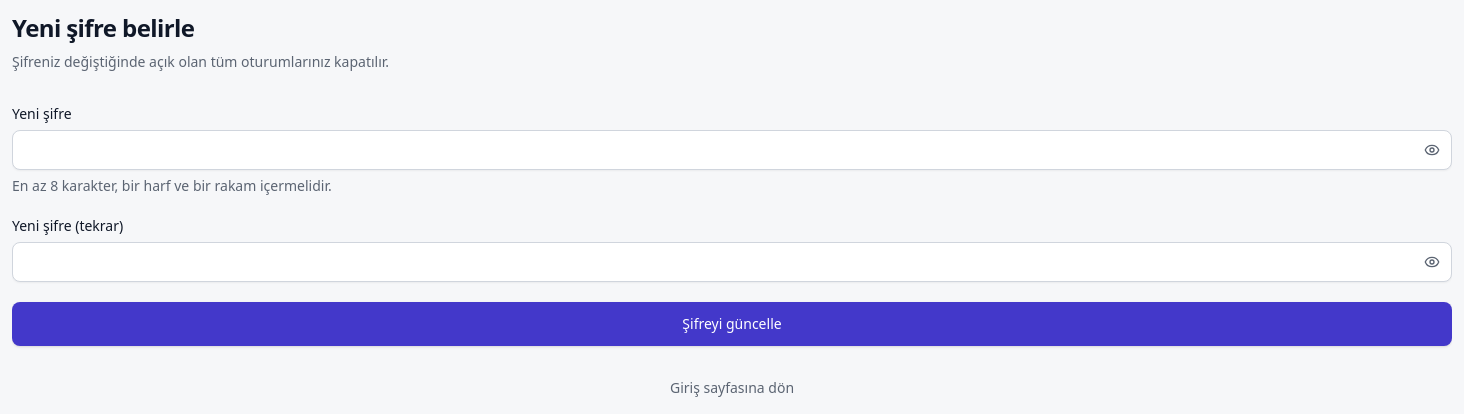
ResetPasswordForm › rejects a password that is too weak
Type "sadeceharf" into the password field labelled "Yeni şifre".
click(732, 150); type("sadeceharf")  # box x1=12 y1=130 x2=1452 y2=170
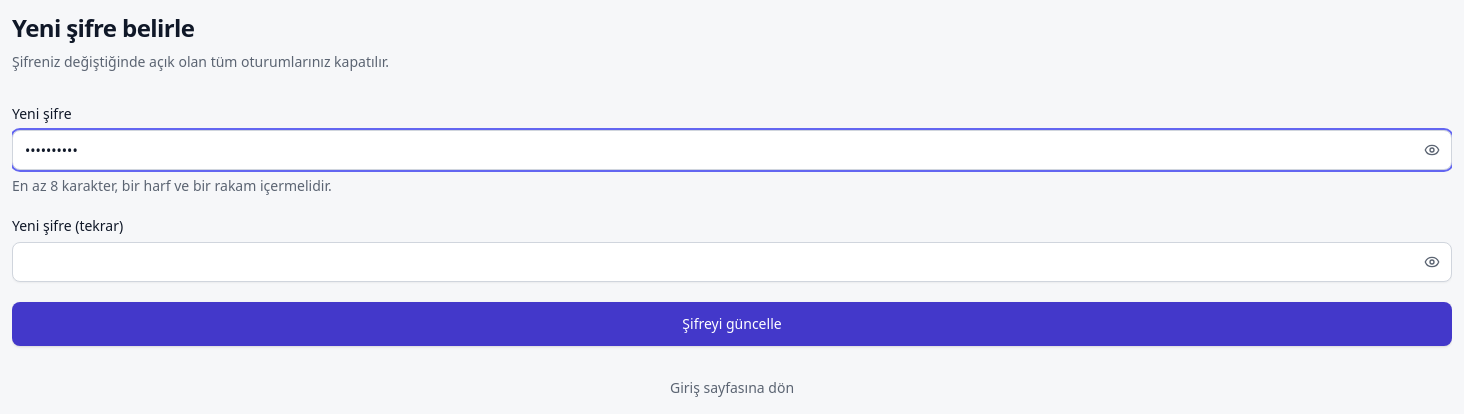
Type "sadeceharf" into the password field labelled "Yeni şifre (tekrar)".
click(732, 262); type("sadeceharf")  # box x1=12 y1=242 x2=1452 y2=282
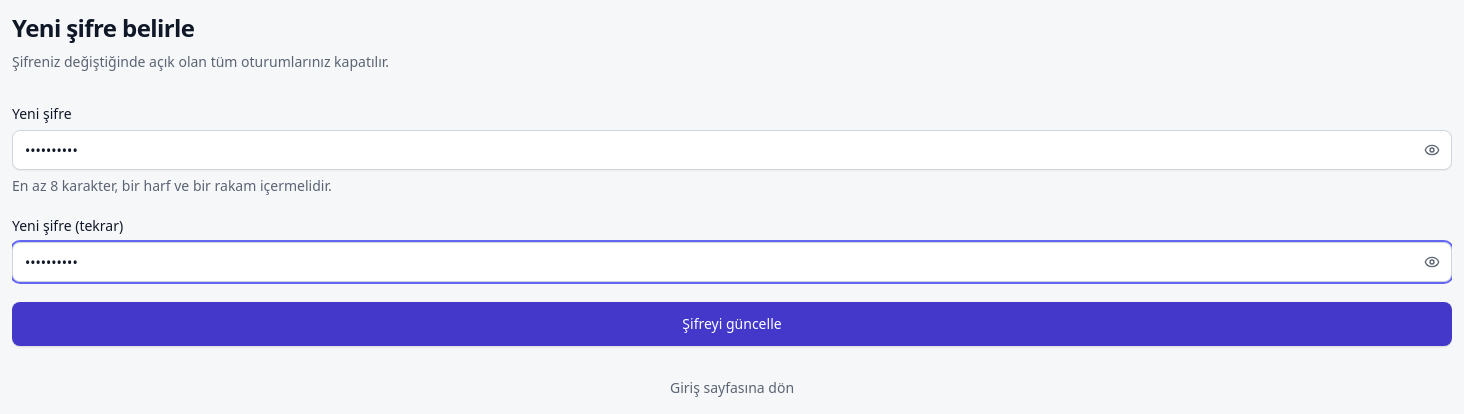
Click the button "Şifreyi güncelle".
click(732, 324)  # box x1=12 y1=302 x2=1452 y2=346
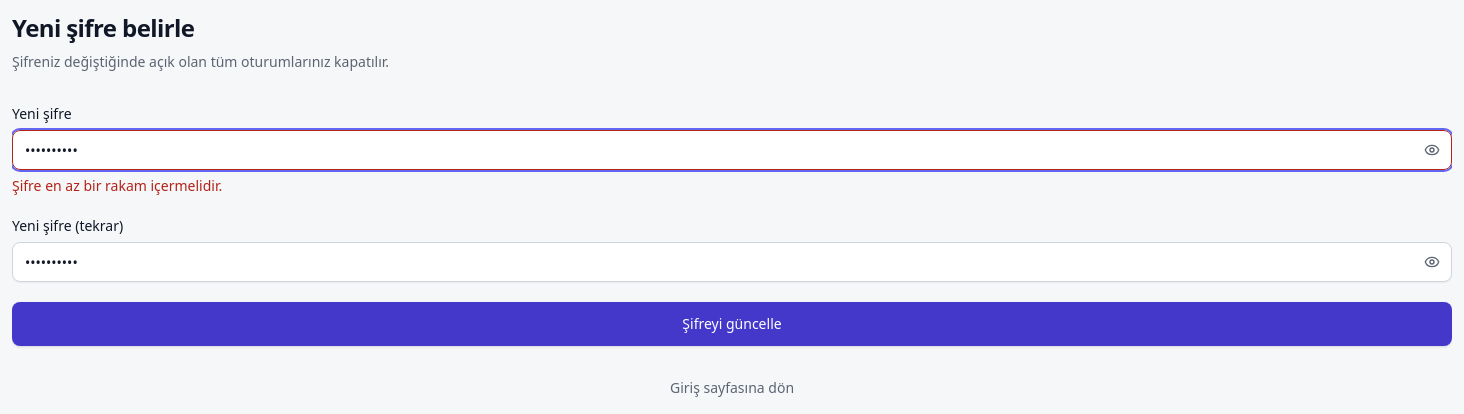
Result: the text "Şifre en az bir rakam içermelidir." is shown at x1=12 y1=176 x2=222 y2=195
